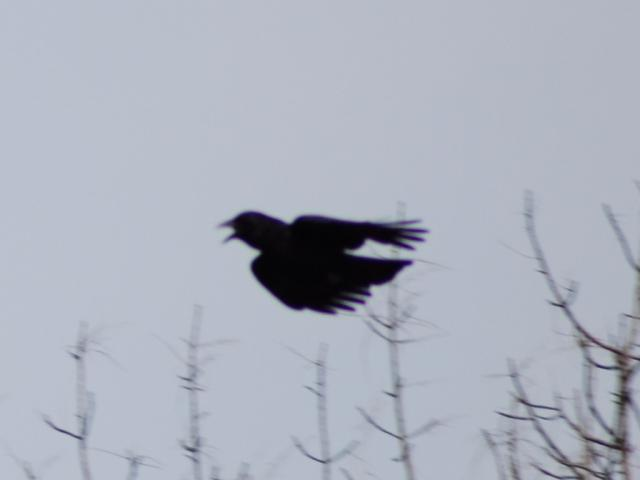Bird: (211, 204, 429, 319)
